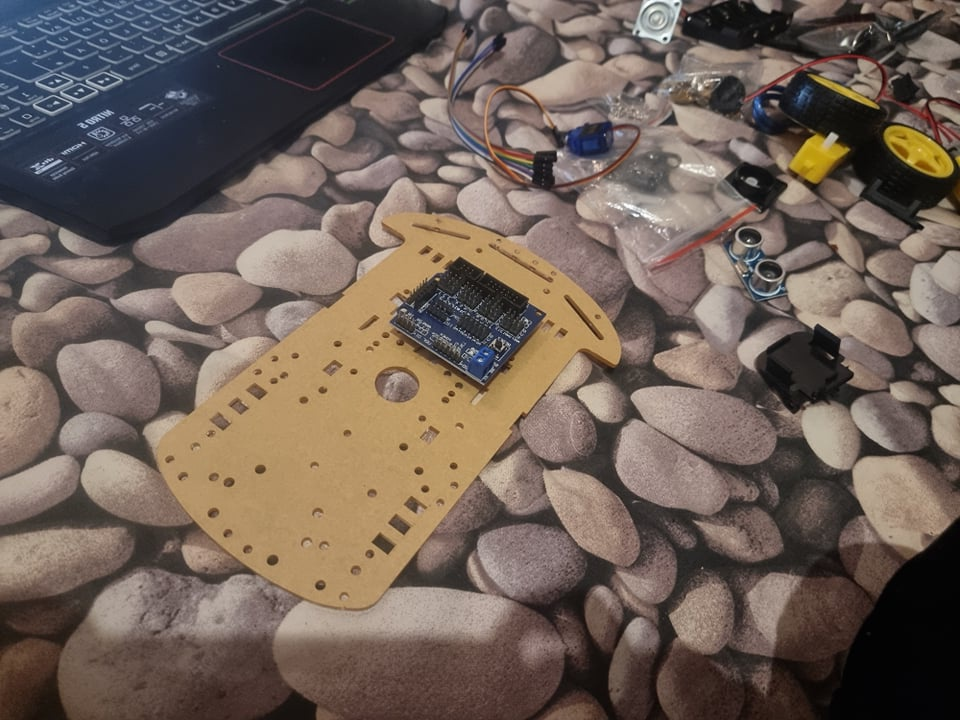5V EXPANSION: (389, 254, 550, 385)
BATTERY BOX: (683, 1, 796, 54)
SENSOR: (725, 226, 787, 299)
